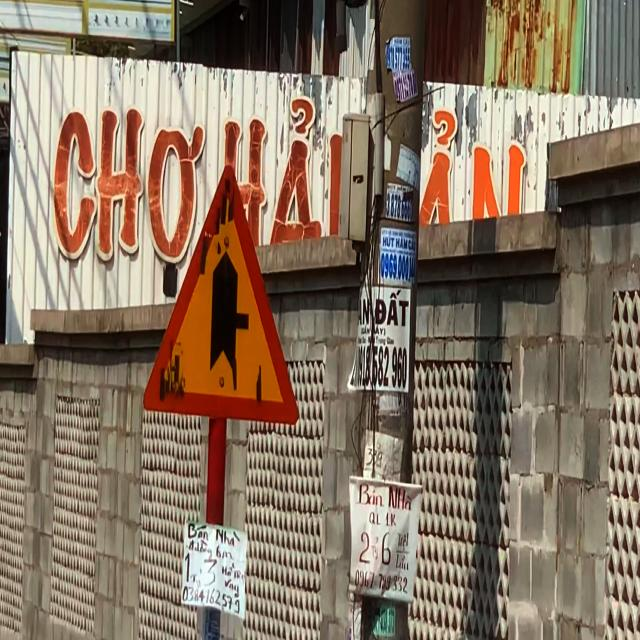Giao voi duong khong uu tien: (141, 162, 301, 428)
